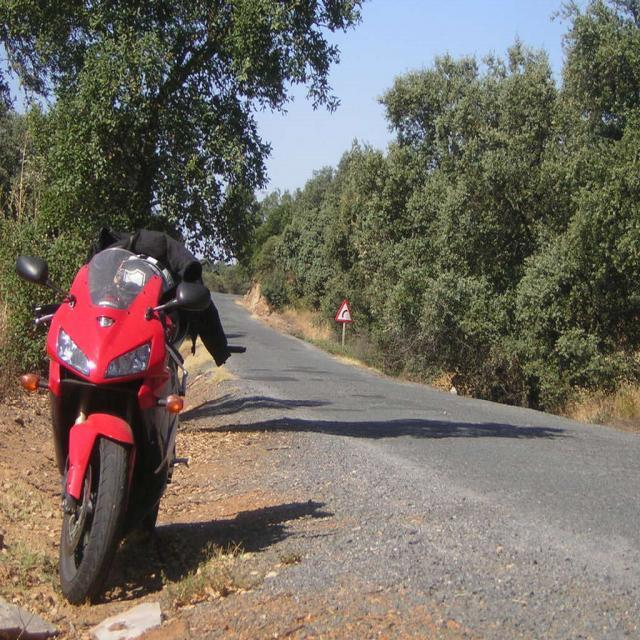bus: (41, 235, 196, 615)
